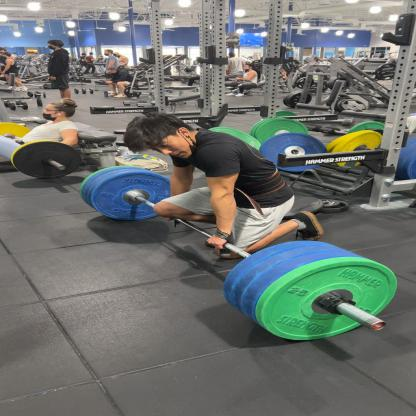Barbell: (244, 253, 405, 348)
